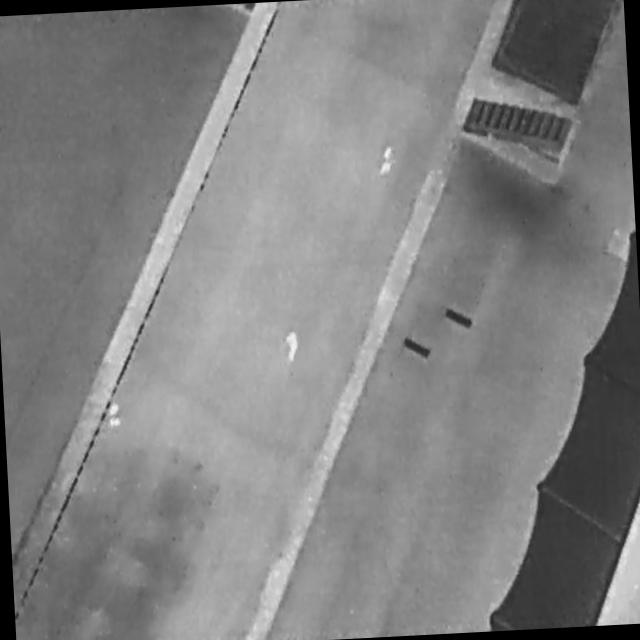person: (376, 145, 401, 182), (284, 329, 301, 366), (107, 402, 123, 429)
